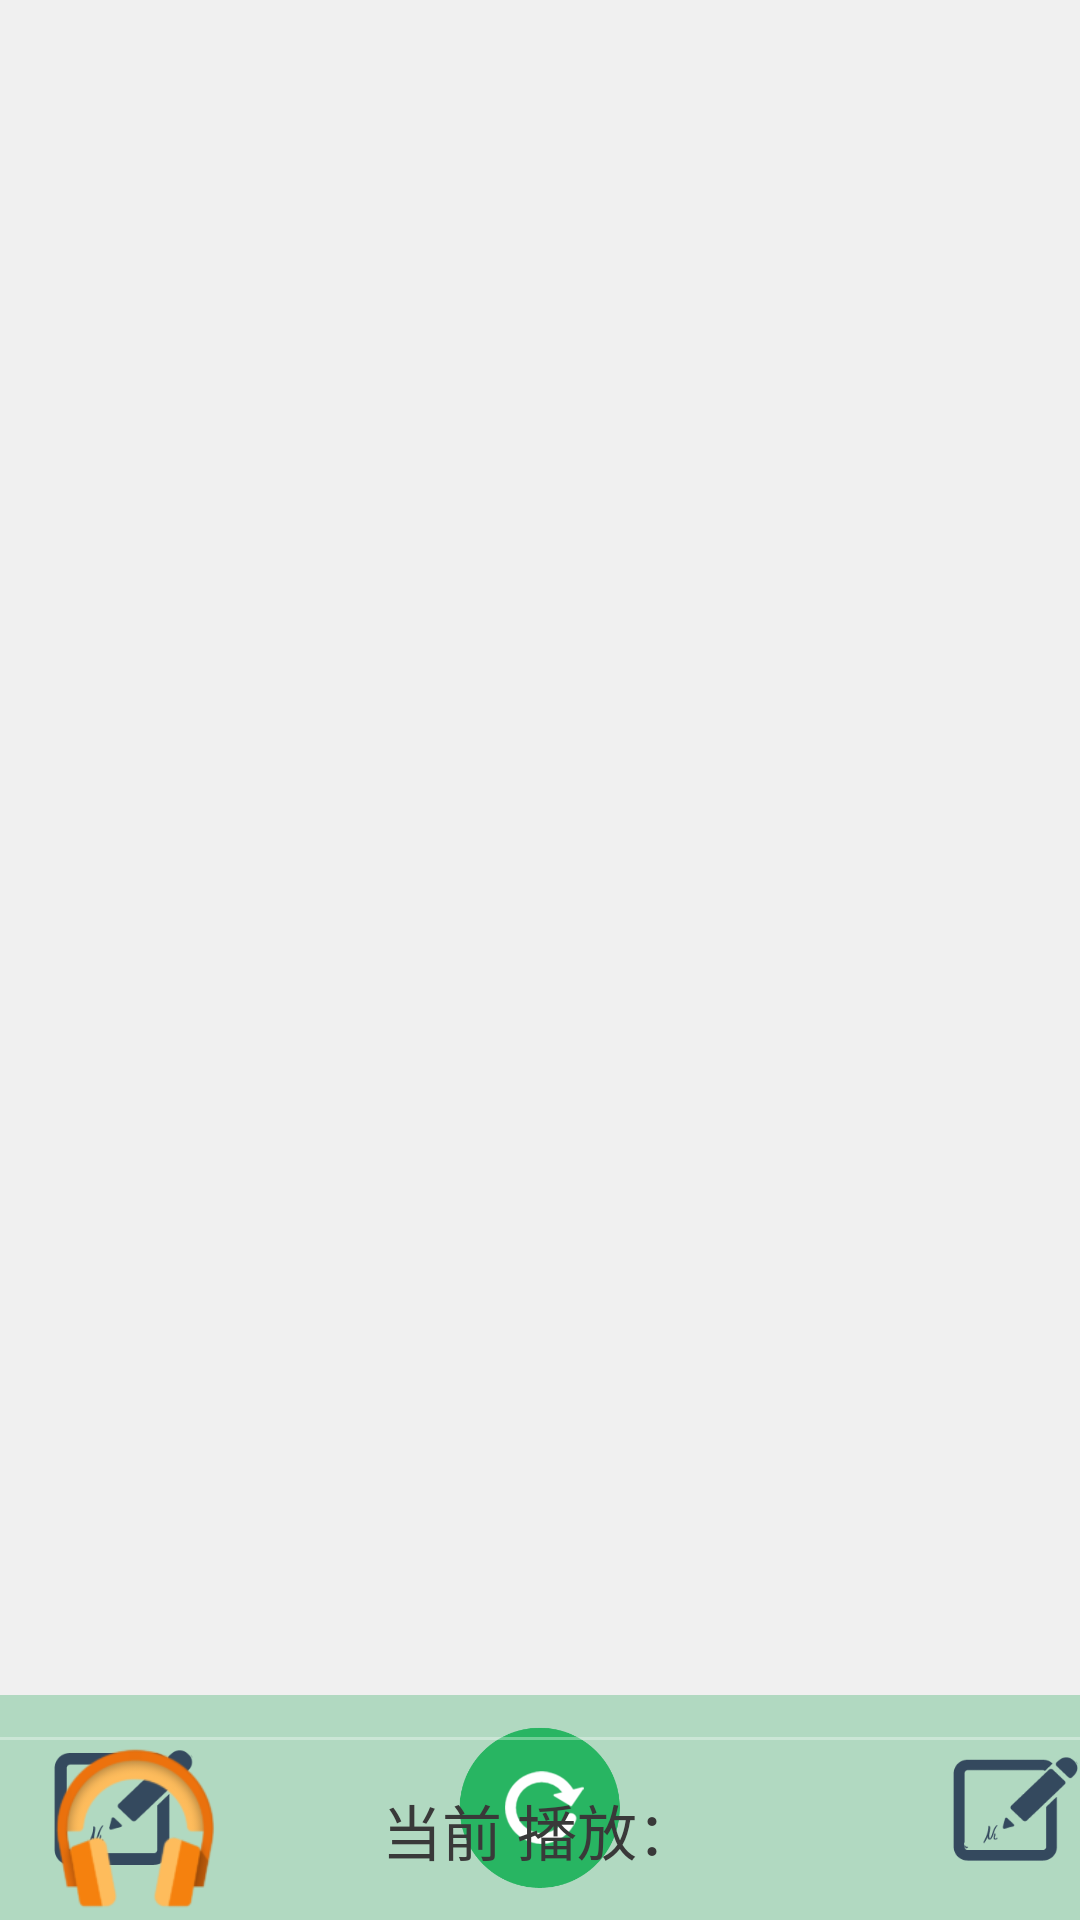

Icons on this 1080x1920 Android screen, each with the point to tap as [x,y]:
refreshmusic bt: [540,1808]
